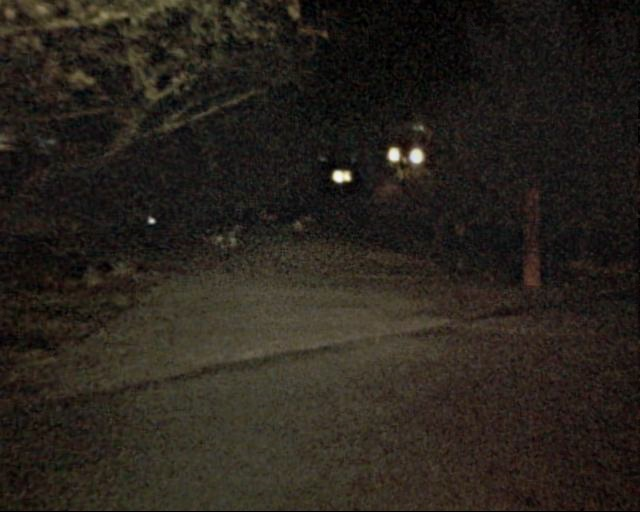person: (289, 217, 308, 264)
